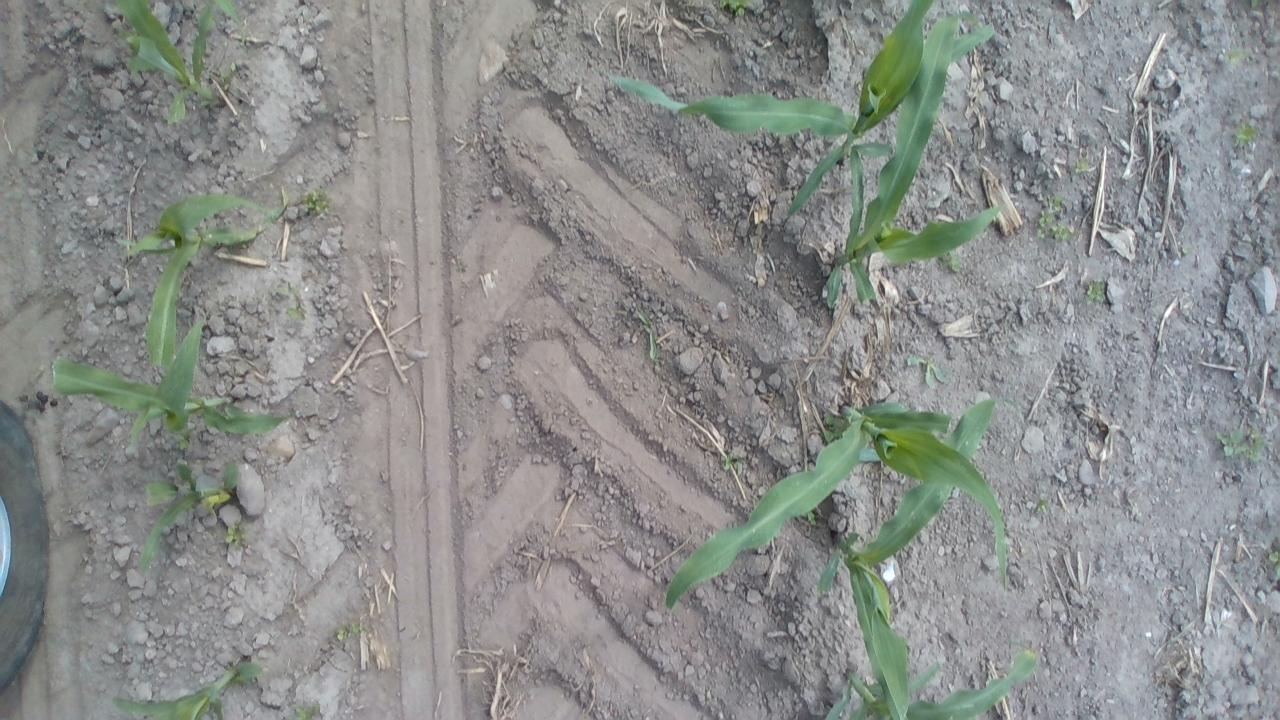Maize: (665, 403, 1009, 608), (602, 0, 934, 211), (812, 392, 1022, 720), (820, 11, 1004, 310), (112, 186, 292, 370), (50, 314, 296, 436), (107, 0, 245, 124), (823, 648, 1041, 720), (138, 456, 242, 575), (112, 661, 262, 720)
Weeds: (1214, 424, 1266, 465), (1036, 197, 1075, 244), (906, 352, 947, 388), (638, 312, 658, 362), (300, 186, 333, 214), (821, 412, 847, 442), (1232, 122, 1258, 148), (938, 245, 961, 273), (218, 61, 238, 91), (1223, 44, 1249, 66), (1086, 278, 1106, 304), (226, 520, 244, 548), (720, 450, 744, 471), (719, 0, 750, 16), (336, 622, 362, 641), (176, 422, 193, 451), (284, 300, 306, 321), (294, 703, 319, 720), (274, 280, 300, 296), (1269, 547, 1280, 577), (1074, 157, 1090, 174), (1035, 497, 1051, 513), (803, 508, 816, 524), (1249, 0, 1260, 8)
